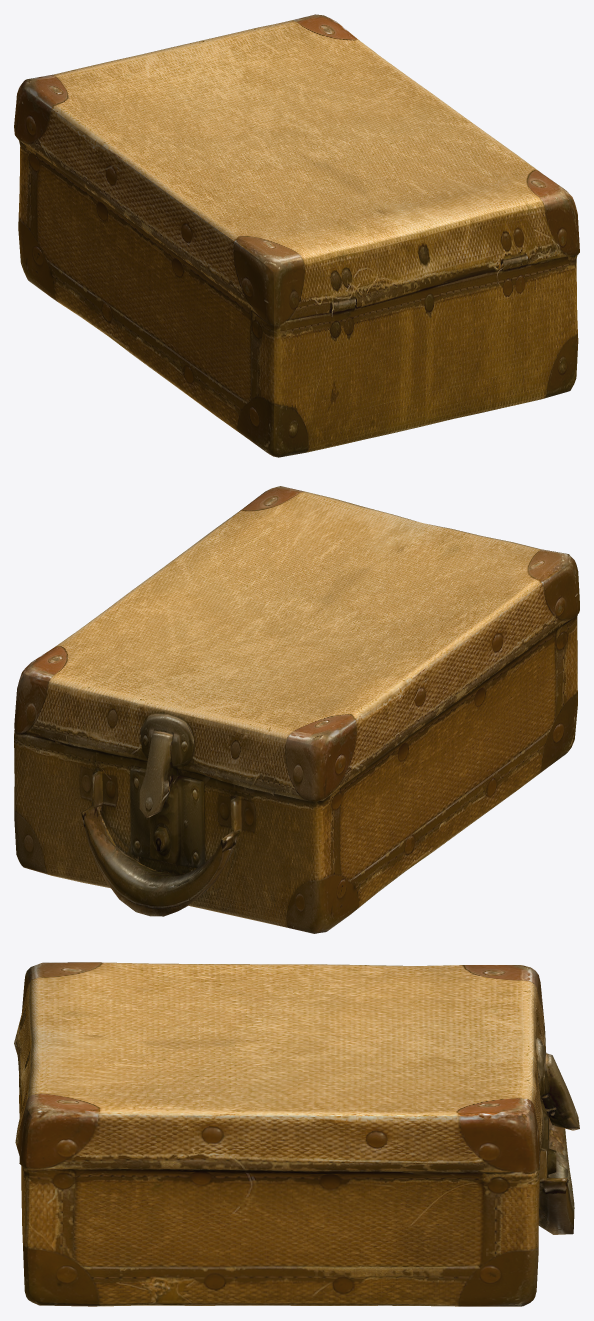
Rendered from suitcase.dae.
3 renders of one model, top to bottom at view 1: azimuth 30°, elevation 25°; view 2: azimuth 150°, elevation 25°; view 3: azimuth 270°, elevation 25°, orthographic.
Visible parts, largest first — view 1: node0; view 2: node0; view 3: node0.
Boxes of the visible parts, x1,y1,x2,y2 form: node0: (14, 14, 579, 457); node0: (14, 486, 579, 933); node0: (14, 962, 579, 1306).
Size of the model in its own units: 0.4 by 0.63 by 0.25.
1 material, 1 textured.
